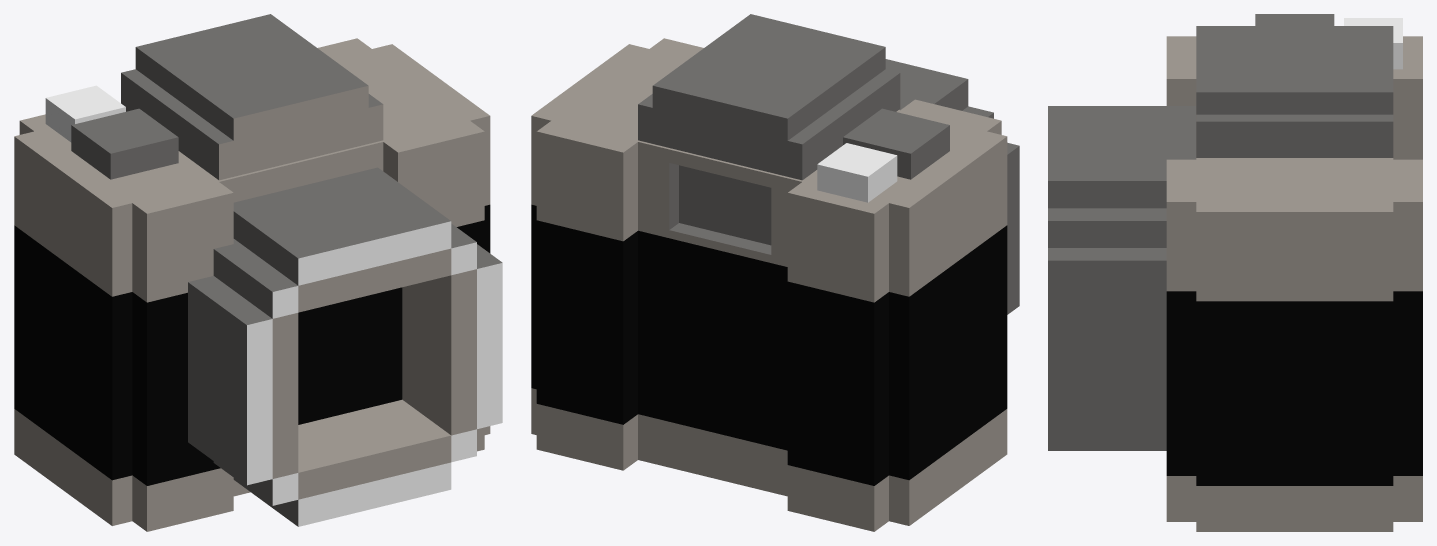
The model's file is camera.FBX.
3 views of the same model, side by side, from view 1: azimuth 30°, elevation 25°; view 2: azimuth 150°, elevation 25°; view 3: azimuth 270°, elevation 25° (orthographic).
Parts seen in each view (by area): view 1: camera_body, camera_lens, camera_viewfinder, camera_dial, camera_button; view 2: camera_body, camera_viewfinder, camera_lens, camera_dial, camera_button; view 3: camera_body, camera_lens, camera_viewfinder, camera_dial, camera_button.
Part boxes in pixels (box(x1,y1,x2,y2)): camera_body: box(14, 38, 490, 531); camera_lens: box(188, 167, 502, 526); camera_viewfinder: box(121, 14, 383, 180); camera_dial: box(71, 108, 178, 179); camera_button: box(45, 85, 125, 142); camera_body: box(531, 38, 1007, 531); camera_viewfinder: box(638, 14, 900, 180); camera_lens: box(885, 59, 1019, 314); camera_dial: box(843, 108, 949, 179); camera_button: box(817, 143, 897, 202); camera_body: box(1166, 36, 1422, 531); camera_lens: box(1048, 106, 1195, 450); camera_viewfinder: box(1196, 26, 1393, 157); camera_dial: box(1255, 14, 1334, 25); camera_button: box(1344, 18, 1402, 69).
Bounding box in the file's own units: 89.13 × 85.11 × 76.05.
